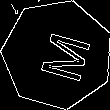M_W: (26, 25, 88, 83)
